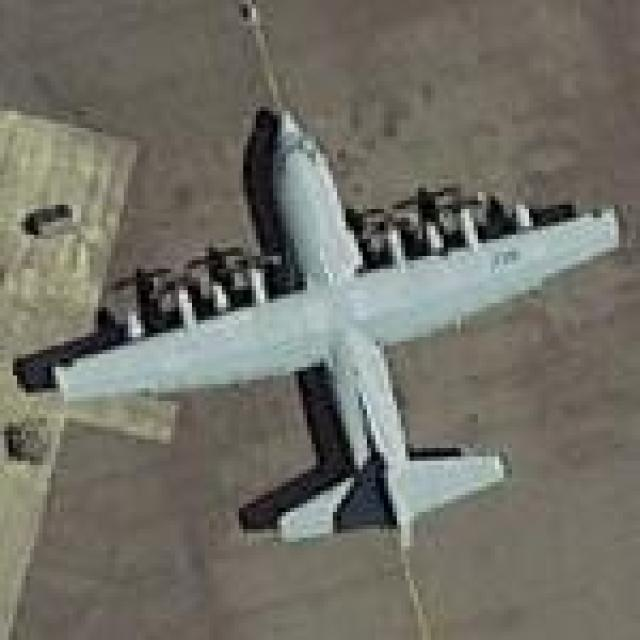C-130_TopDown: (15, 100, 623, 548)
